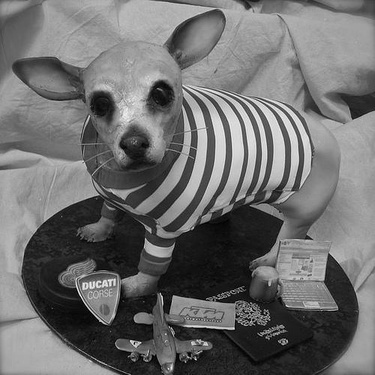dog: (1, 6, 346, 313)
